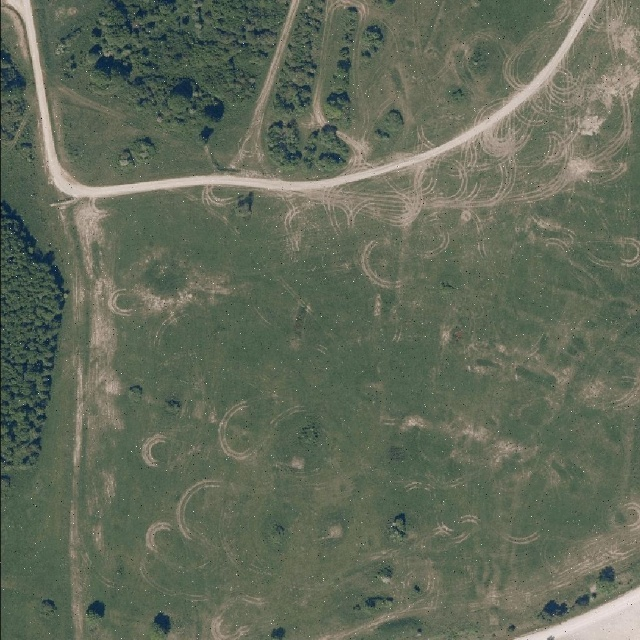vegetation: (86, 3, 294, 124), (3, 201, 64, 471), (265, 0, 350, 173), (1, 44, 23, 146)
